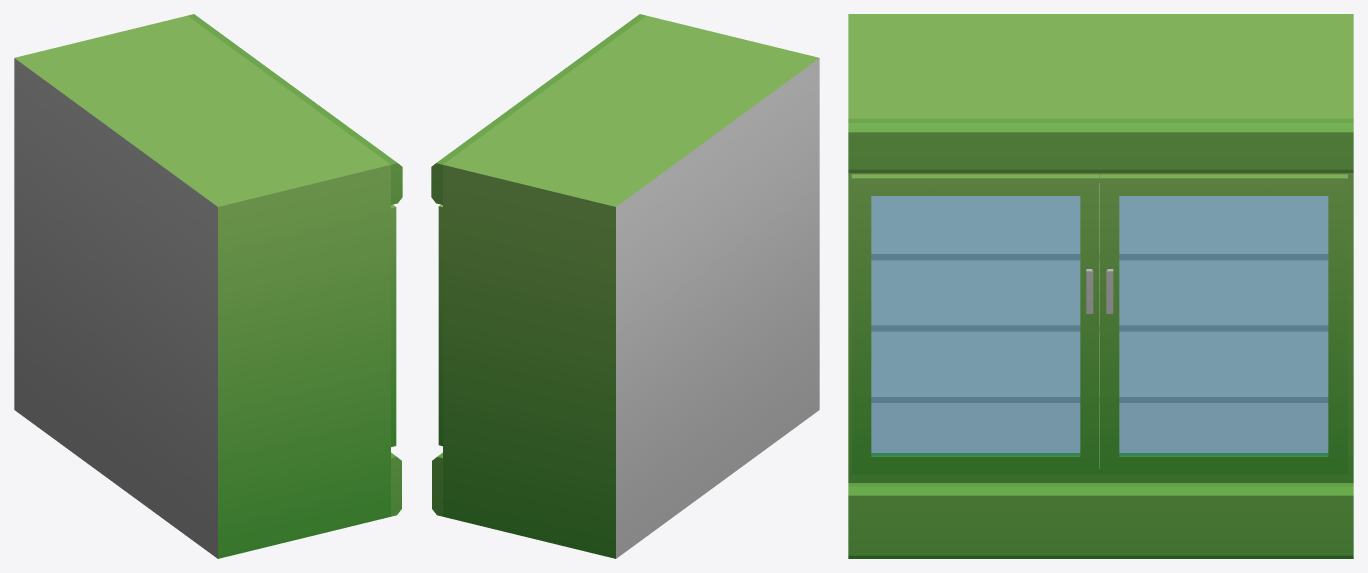
The model's file is fridge_double_green.fbx.
3 renders of one model, left to right at view 1: azimuth 30°, elevation 25°; view 2: azimuth 150°, elevation 25°; view 3: azimuth 270°, elevation 25°, orthographic. The views are drawn at different scales.
Visible parts, largest first — view 1: fridge_double_green, fridge_door_double_green02; view 2: fridge_double_green, fridge_door_double_green01; view 3: fridge_double_green, fridge_door_double_green02, fridge_door_double_green01.
Boxes of the visible parts, x1=… form: fridge_double_green: x1=14, y1=14, x2=402, y2=558; fridge_door_double_green02: x1=391, y1=204, x2=396, y2=446; fridge_double_green: x1=431, y1=14, x2=819, y2=558; fridge_door_double_green01: x1=438, y1=204, x2=442, y2=446; fridge_double_green: x1=848, y1=14, x2=1353, y2=558; fridge_door_double_green02: x1=851, y1=174, x2=1099, y2=474; fridge_door_double_green01: x1=1100, y1=174, x2=1347, y2=474.
Bounding box in the file's own units: 680 × 1238 × 1298.
